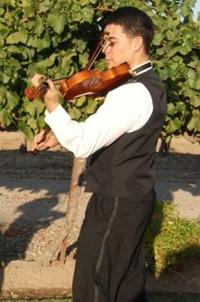person: (26, 8, 166, 302)
